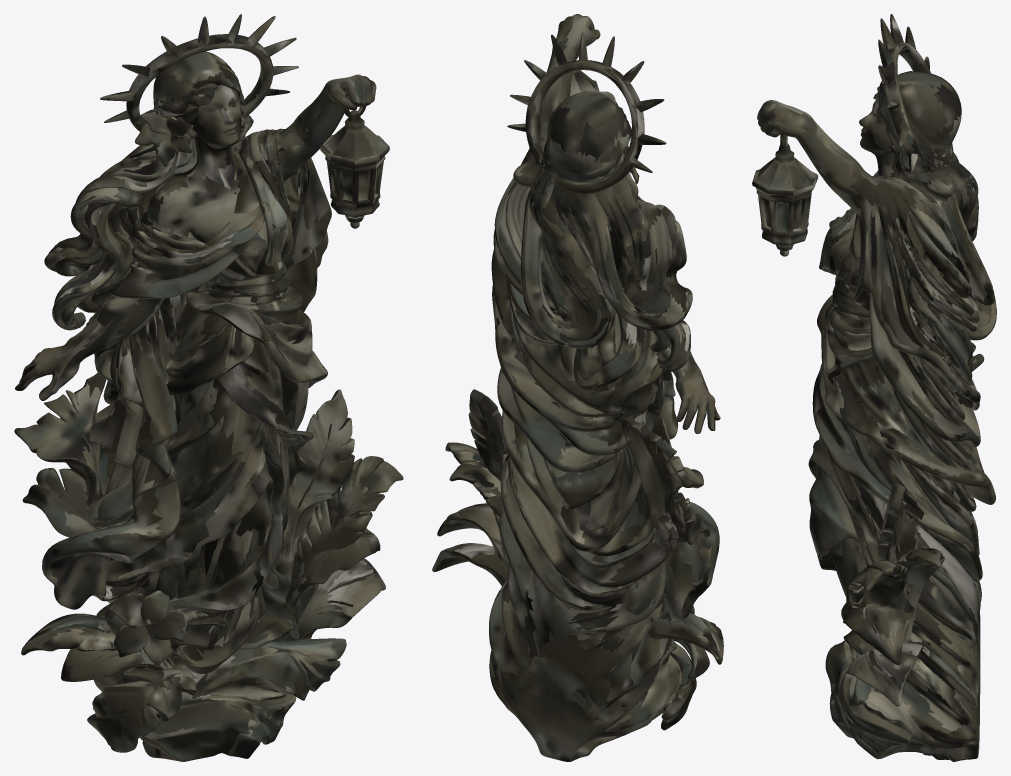
The model's file is Mujer.fbx.
The picture shows the model from 3 angles, left to right: view 1: azimuth 30°, elevation 25°; view 2: azimuth 150°, elevation 25°; view 3: azimuth 270°, elevation 25°; orthographic projection. The views are drawn at different scales.
Parts seen in each view (by area): view 1: node_0; view 2: node_0; view 3: node_0.
Part boxes in pixels (<box>): node_0: <box>14,14,403,761</box>; node_0: <box>432,14,723,761</box>; node_0: <box>752,14,996,761</box>.
Size of the model in its own units: 54.88 by 116 by 35.45.
